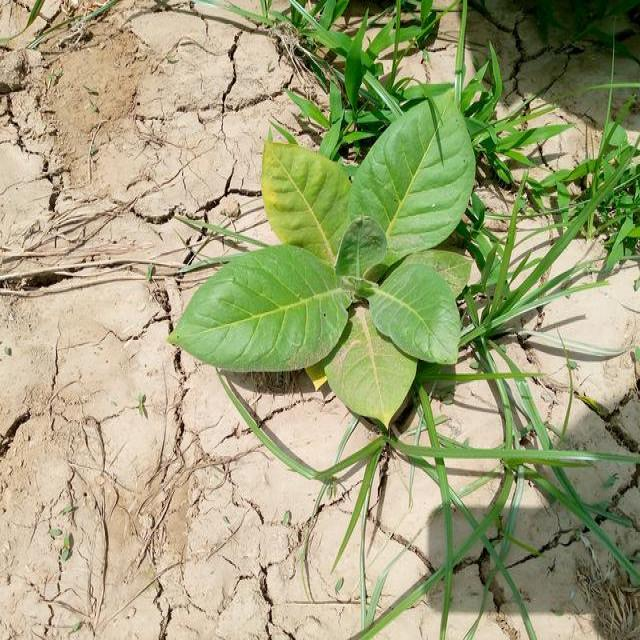crop: (170, 95, 480, 427)
